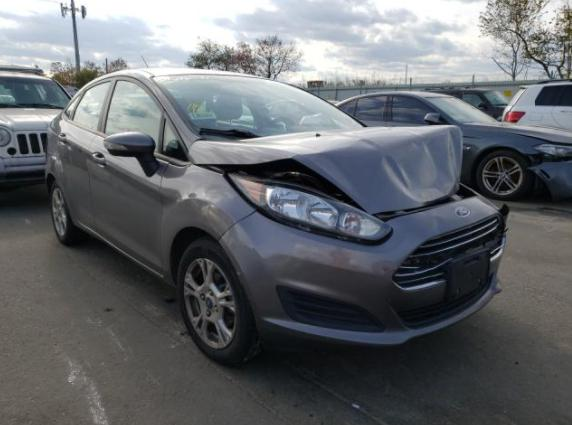Back-door: (58, 75, 116, 233)
Back-wheel: (49, 179, 91, 247)
Back-window: (65, 82, 110, 131)
Fender: (160, 162, 257, 288)
Front-bumper: (217, 194, 507, 345)
Front-door: (88, 75, 169, 275)
Front-wheel: (177, 235, 265, 369)
Front-window: (104, 81, 189, 161)
Grille: (392, 213, 505, 289)
Headlight: (228, 174, 392, 240)
Hood: (189, 125, 464, 216)
Mirror: (103, 130, 159, 177)
Quarter-panel: (44, 117, 79, 226)
Rocker-panel: (75, 221, 164, 280)
Roof: (128, 68, 270, 79)
Windshield: (150, 75, 366, 141)
